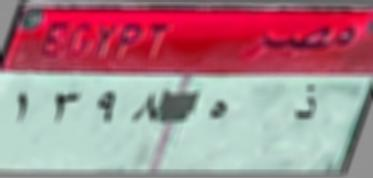1: (11, 87, 34, 137)
3: (48, 85, 82, 134)
8: (131, 90, 159, 133)
9: (92, 86, 119, 130)
haa: (200, 96, 235, 124)
zaal: (292, 82, 322, 124)
